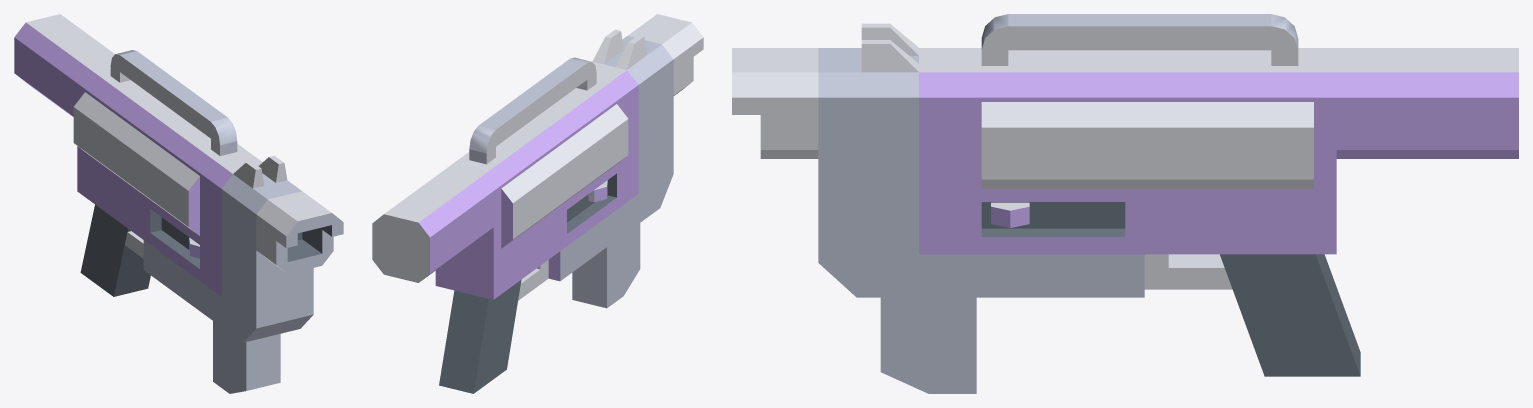
File: blaster01_low.fbx
The picture shows the model from 3 angles, left to right: view 1: azimuth 30°, elevation 25°; view 2: azimuth 150°, elevation 25°; view 3: azimuth 270°, elevation 25°; orthographic projection. The views are drawn at different scales.
Visible parts, largest first — view 1: blasterA_LOW; view 2: blasterA_LOW; view 3: blasterA_LOW.
Boxes of the visible parts, bbox=[...] form: blasterA_LOW: bbox=[14, 14, 343, 393]; blasterA_LOW: bbox=[372, 14, 703, 393]; blasterA_LOW: bbox=[732, 14, 1518, 393].
Size of the model in its own units: 14 by 41.59 by 82.
